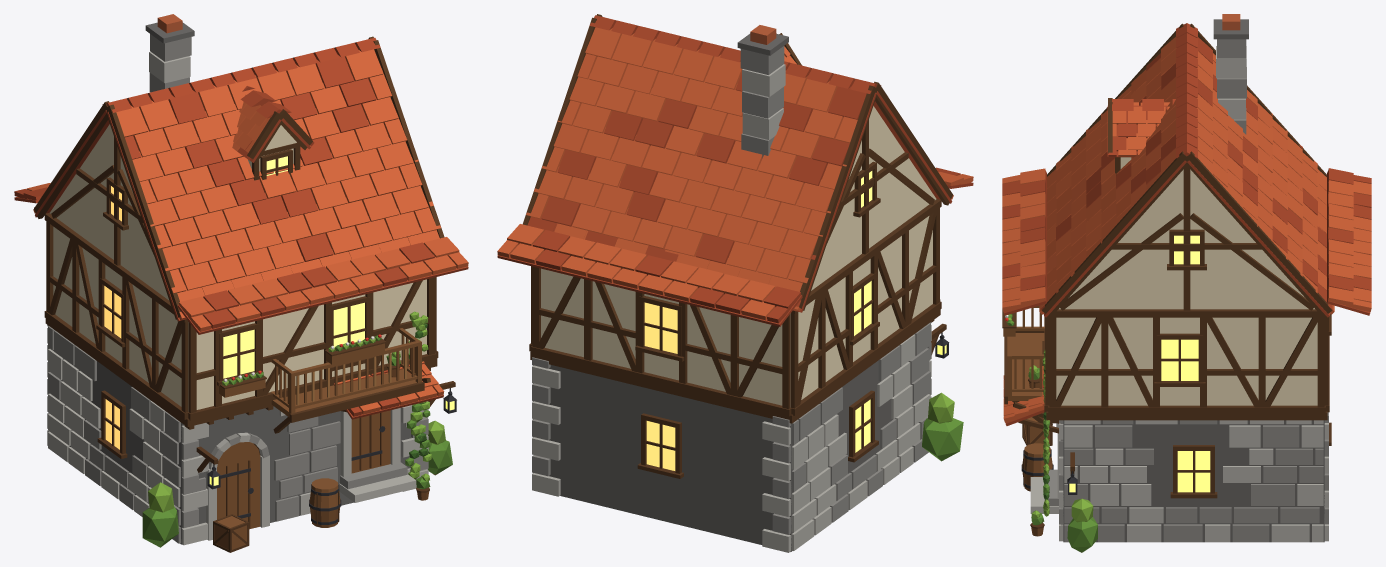
Rendered from Town_07_RedFlared.fbx.
The picture shows the model from 3 angles, left to right: view 1: azimuth 30°, elevation 25°; view 2: azimuth 150°, elevation 25°; view 3: azimuth 270°, elevation 25°; orthographic projection. The views are drawn at different scales.
Parts seen in each view (by area): view 1: Town_07_RedFlared_LOD0; view 2: Town_07_RedFlared_LOD0; view 3: Town_07_RedFlared_LOD0.
Boxes of the visible parts, x1=… form: Town_07_RedFlared_LOD0: x1=14, y1=14, x2=468, y2=552; Town_07_RedFlared_LOD0: x1=497, y1=14, x2=973, y2=552; Town_07_RedFlared_LOD0: x1=1002, y1=14, x2=1371, y2=552.
Size of what is drawn, in the model's own units: 7.64 by 10.49 by 7.91.
